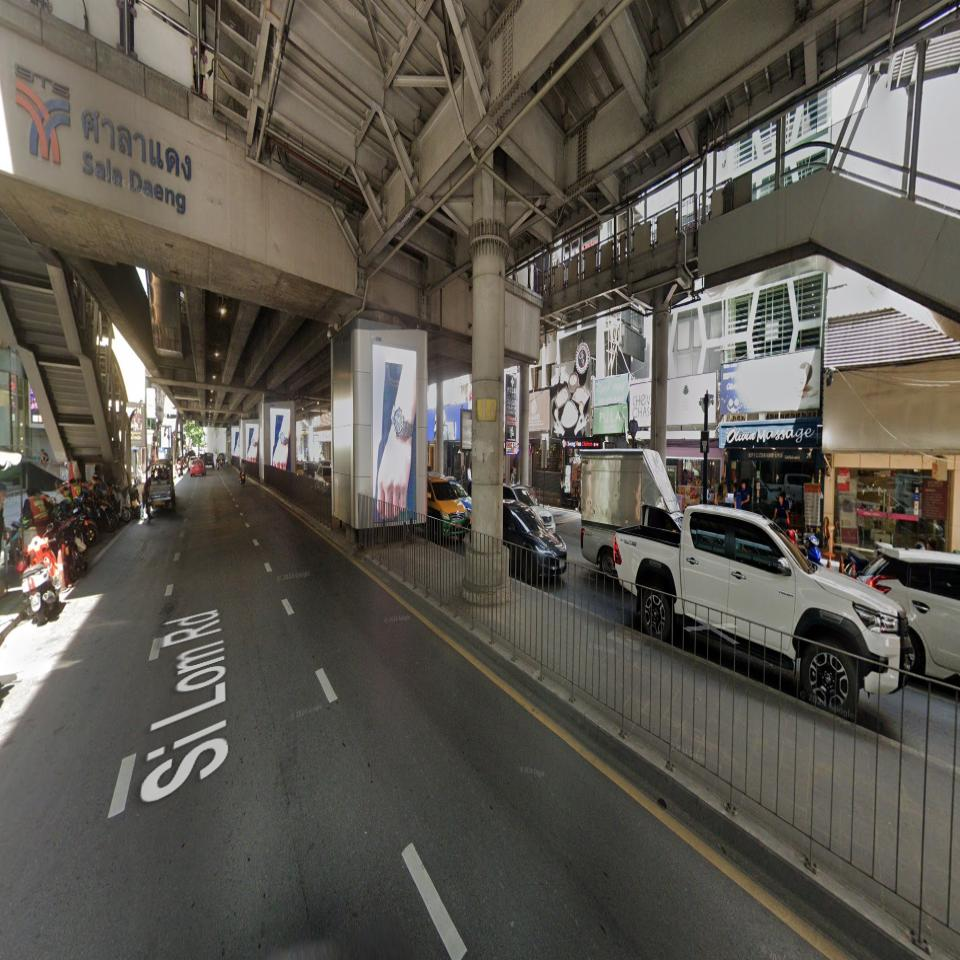signage: (13, 63, 193, 218), (82, 107, 192, 217)
